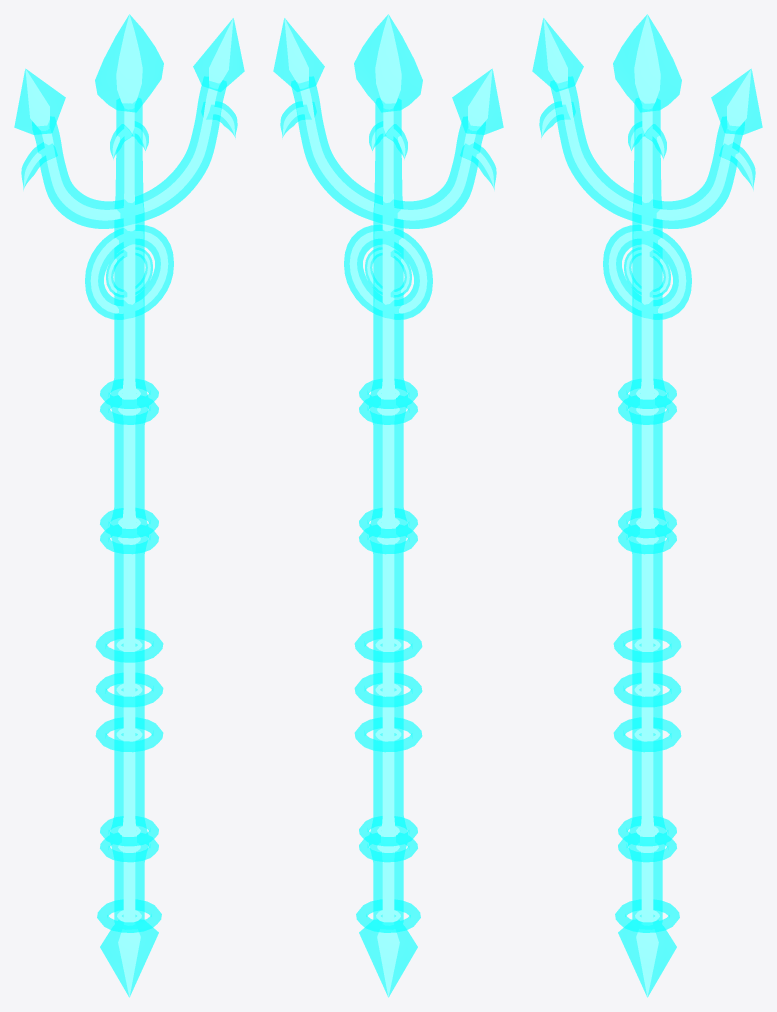
The model's file is trident.glb.
3 views of the same model, side by side, from view 1: azimuth 30°, elevation 25°; view 2: azimuth 150°, elevation 25°; view 3: azimuth 330°, elevation 25° (orthographic).
Visible parts, largest first — view 1: TRIDENT_HALO, TRIDENT_CORE; view 2: TRIDENT_HALO, TRIDENT_CORE; view 3: TRIDENT_HALO, TRIDENT_CORE.
Boxes of the visible parts, x1,y1,x2,y2 form: TRIDENT_HALO: (14, 14, 244, 997); TRIDENT_CORE: (23, 14, 235, 997); TRIDENT_HALO: (273, 14, 503, 997); TRIDENT_CORE: (282, 14, 494, 997); TRIDENT_HALO: (532, 14, 762, 997); TRIDENT_CORE: (541, 14, 753, 997).
Size of the model in its own units: 0.4854 by 1.98 by 0.1248.
